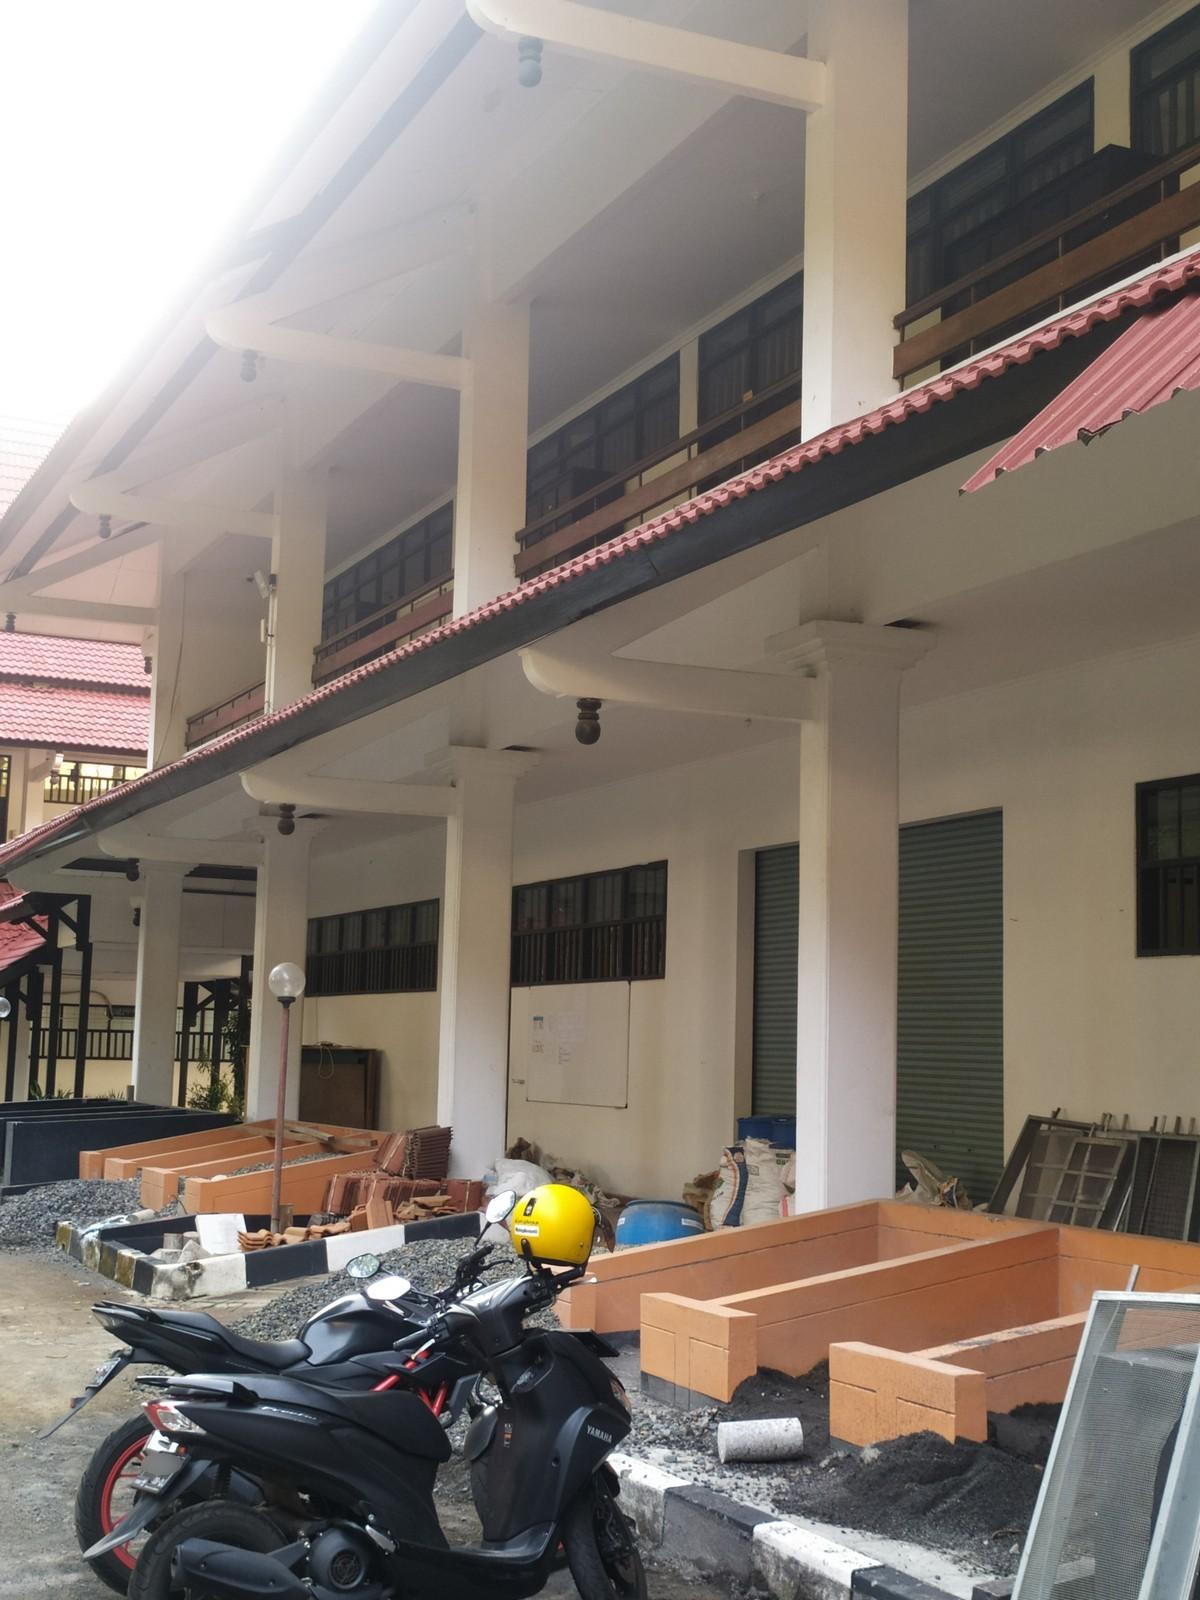concrete beam: (553, 8, 846, 112), (610, 648, 827, 729), (279, 328, 484, 401), (292, 772, 468, 829), (125, 491, 291, 540), (142, 829, 279, 876), (45, 591, 175, 634), (50, 867, 163, 901)
concrete column: (787, 663, 911, 1207), (792, 13, 920, 408), (434, 751, 529, 1170), (446, 275, 542, 605), (241, 824, 315, 1110), (260, 460, 337, 700), (129, 863, 192, 1105), (142, 551, 195, 765)
